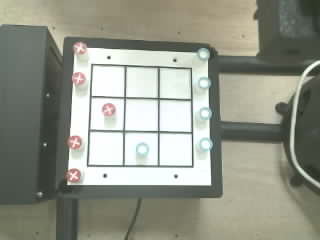blue circle: (199, 138, 212, 151), (136, 143, 148, 156), (197, 48, 209, 60), (198, 77, 211, 88), (200, 107, 211, 119)
board: (66, 46, 213, 186)
cells: (89, 132, 122, 164), (125, 133, 157, 165), (90, 98, 123, 129), (125, 99, 157, 130), (160, 134, 191, 165), (160, 100, 191, 131), (92, 66, 124, 96), (126, 67, 157, 97), (160, 68, 190, 98)
grid: (87, 64, 193, 167)
red cross: (65, 168, 80, 182), (68, 136, 82, 150), (102, 103, 115, 116), (72, 72, 85, 85), (73, 42, 86, 54)
